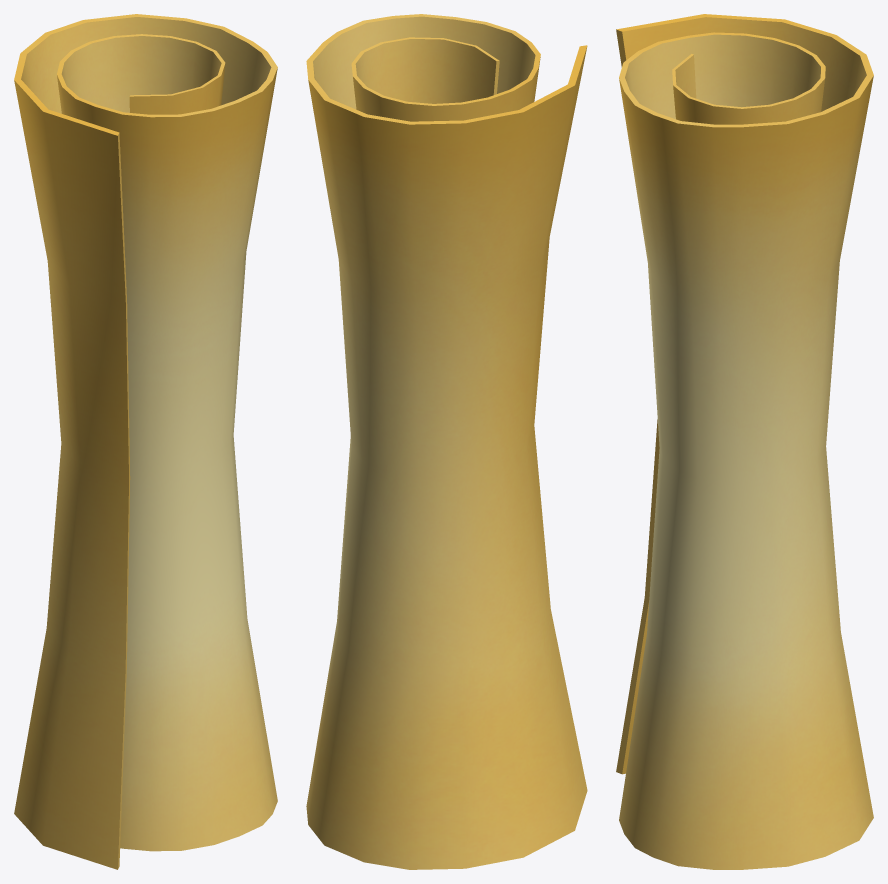
File: Map_scroll.fbx
3 views of the same model, side by side, from view 1: azimuth 30°, elevation 25°; view 2: azimuth 150°, elevation 25°; view 3: azimuth 270°, elevation 25° (orthographic).
Visible parts, largest first — view 1: Map_scroll; view 2: Map_scroll; view 3: Map_scroll.
Part boxes in pixels (bbox=[...]): Map_scroll: bbox=[14, 14, 277, 869]; Map_scroll: bbox=[306, 14, 587, 869]; Map_scroll: bbox=[616, 14, 873, 869].
Bounding box in the file's own units: 32.82 × 100 × 31.55.
